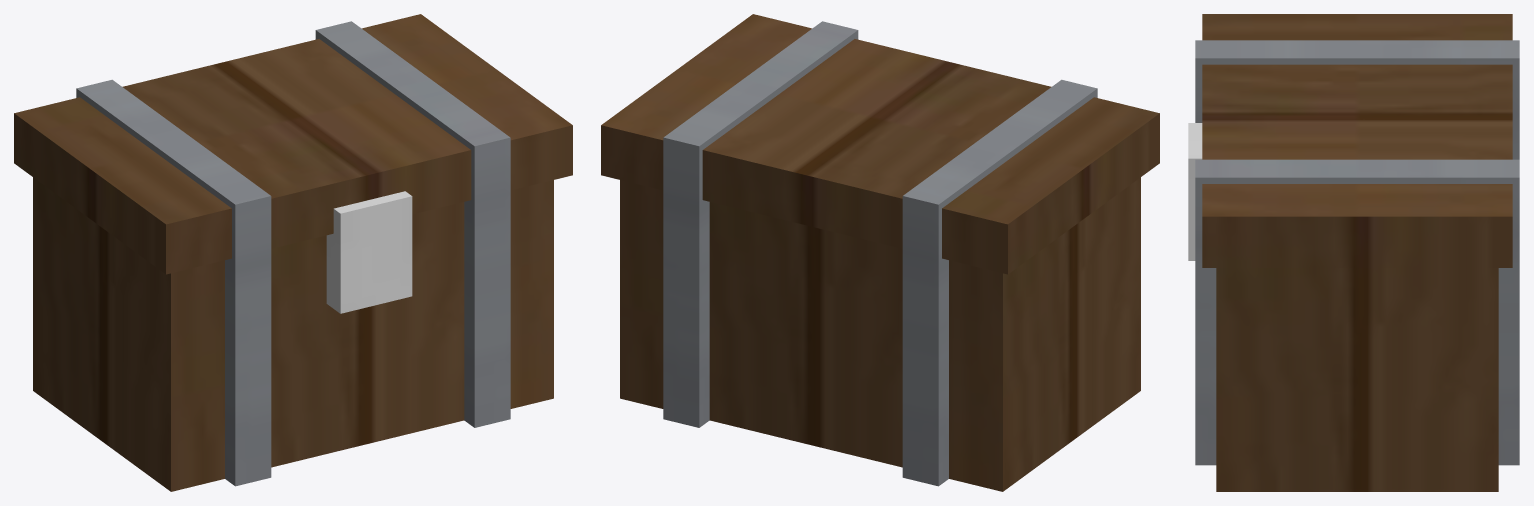
File: cargo.t4.glb
3 views of the same model, side by side, from view 1: azimuth 30°, elevation 25°; view 2: azimuth 150°, elevation 25°; view 3: azimuth 270°, elevation 25° (orthographic). The views are drawn at different scales.
Visible parts, largest first — view 1: courier.cargo.t4; view 2: courier.cargo.t4; view 3: courier.cargo.t4.
Boxes of the visible parts, x1=… form: courier.cargo.t4: x1=14, y1=14, x2=572, y2=491; courier.cargo.t4: x1=601, y1=14, x2=1159, y2=491; courier.cargo.t4: x1=1188, y1=14, x2=1519, y2=491.
Bounding box in the file's own units: 0.34 × 0.225 × 0.235.
3 materials, 3 textured.
